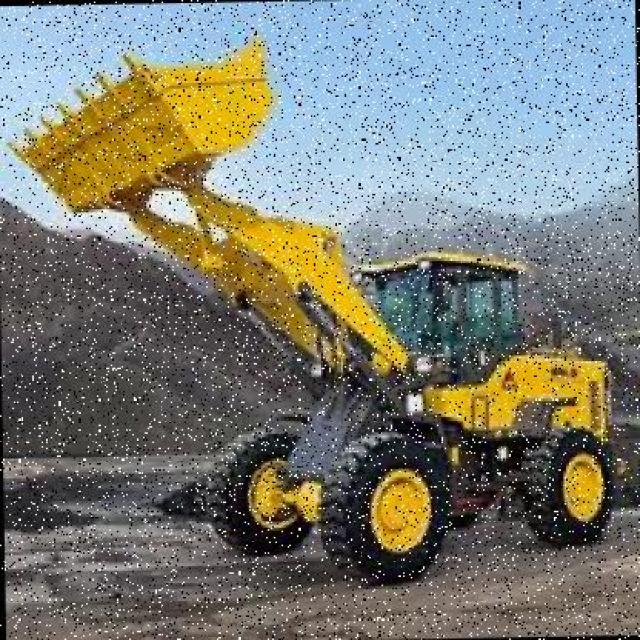buldozerpayloadergrader: (9, 24, 620, 584)
